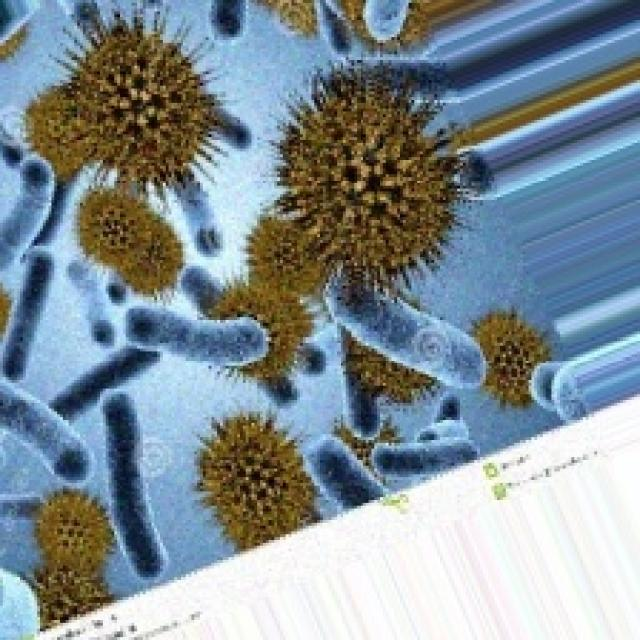Spherical_bacteria: (266, 52, 474, 297), (20, 0, 243, 194)
